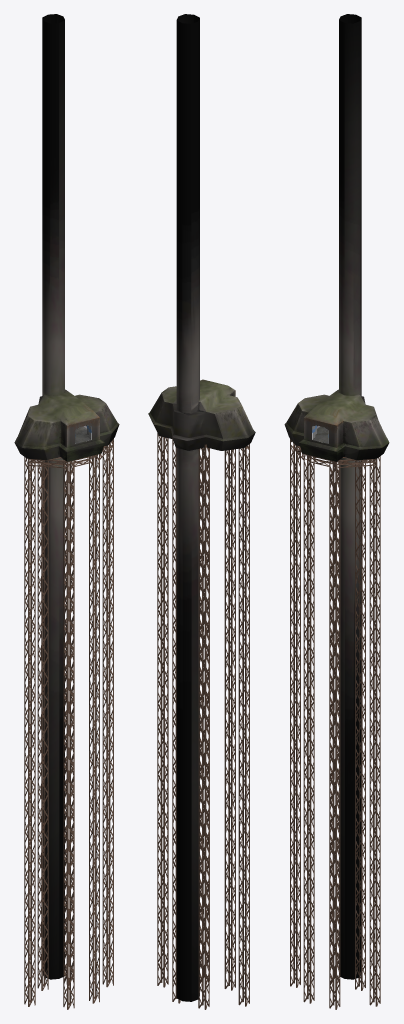
File: station (2).obj
3 renders of one model, left to right at view 1: azimuth 30°, elevation 25°; view 2: azimuth 150°, elevation 25°; view 3: azimuth 330°, elevation 25°, orthographic. The views are drawn at different scales.
Parts seen in each view (by area): view 1: Cube.001, Cube.003, Cube.010, Cube.005, Cube.002, Cube.004, Cube.009, Cube.007; view 2: Cube.001, Cube.010, Cube.003, Cube.002, Cube.005, Cube.009, Cube.004; view 3: Cube.001, Cube.004, Cube.003, Cube.005, Cube.002, Cube.009, Cube.010, Cube.008.
Part boxes in pixels (<box>): Cube.001: <box>14,14,119,979</box>; Cube.003: <box>102,439,113,987</box>; Cube.010: <box>37,460,48,990</box>; Cube.005: <box>63,459,74,1009</box>; Cube.002: <box>24,457,35,1006</box>; Cube.004: <box>89,454,99,1003</box>; Cube.009: <box>64,463,73,984</box>; Cube.007: <box>28,457,69,468</box>; Cube.001: <box>148,14,255,1001</box>; Cube.010: <box>198,444,209,1009</box>; Cube.003: <box>157,433,168,987</box>; Cube.002: <box>238,444,249,1006</box>; Cube.005: <box>224,449,235,990</box>; Cube.009: <box>172,438,180,1003</box>; Cube.004: <box>200,447,209,982</box>; Cube.001: <box>284,14,389,979</box>; Cube.004: <box>329,460,340,1009</box>; Cube.003: <box>369,456,380,1006</box>; Cube.005: <box>303,454,314,1003</box>; Cube.002: <box>290,439,300,987</box>; Cube.009: <box>355,460,365,990</box>; Cube.010: <box>330,461,339,982</box>; Cube.008: <box>335,457,376,468</box>.
Bounding box in the file's own units: 18.32 × 173 × 13.2.
